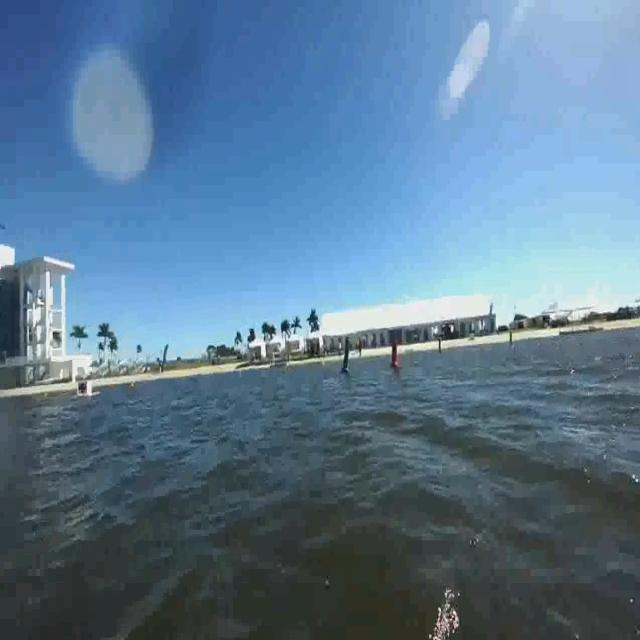green-column-buoy: (341, 338, 353, 373)
red-column-buoy: (388, 341, 398, 368)
